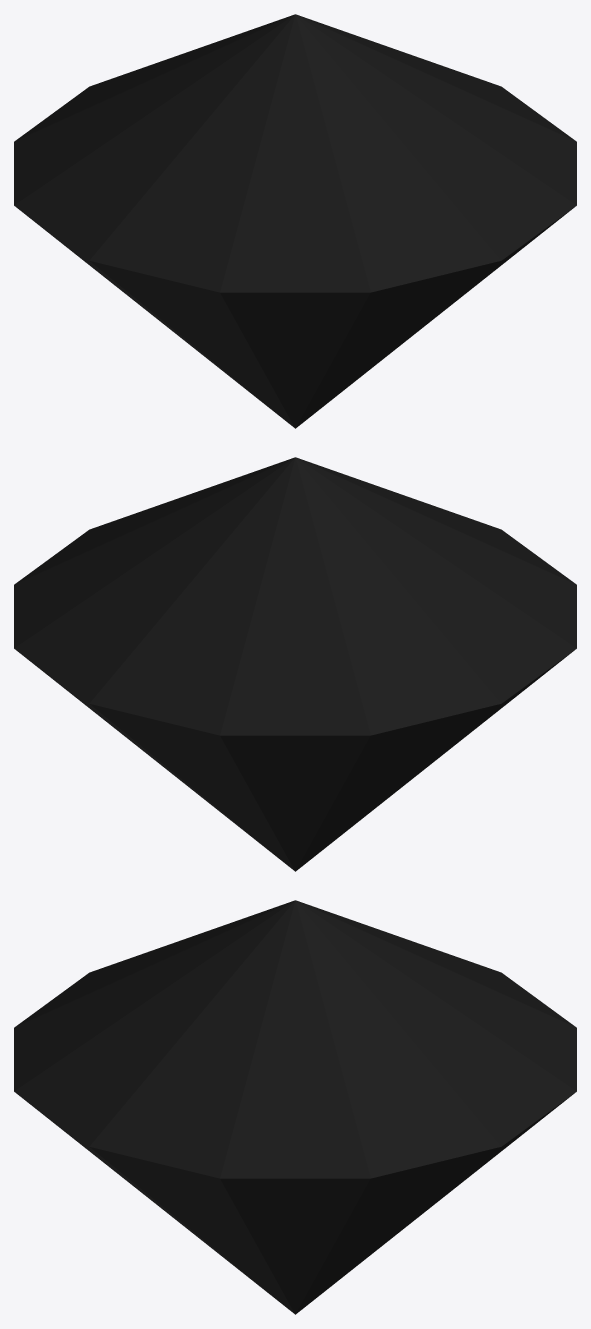
The model's file is mod_diamond.gltf.
The picture shows the model from 3 angles, top to bottom: view 1: azimuth 30°, elevation 25°; view 2: azimuth 150°, elevation 25°; view 3: azimuth 270°, elevation 25°; orthographic projection.
Visible parts, largest first — view 1: cone; view 2: cone; view 3: cone.
Boxes of the visible parts, x1=… form: cone: x1=14, y1=14, x2=576, y2=428; cone: x1=14, y1=457, x2=576, y2=871; cone: x1=14, y1=900, x2=576, y2=1314.
Size of the model in its own units: 1 by 0.8125 by 1.
1 material, 1 textured.
